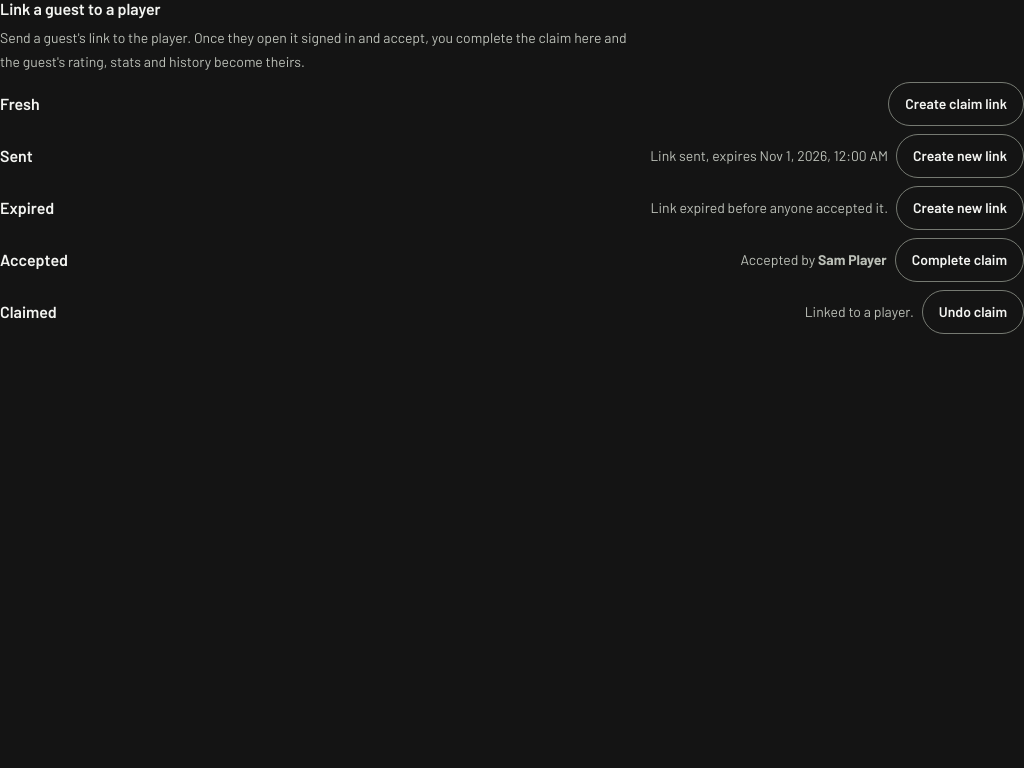
Scenario: GuestClaims › reports the action that ran last, not an older one
This screenshot has width=1024, height=768.
Click the button "Complete claim" at coordinates (959, 260), box [895,238,1023,282]
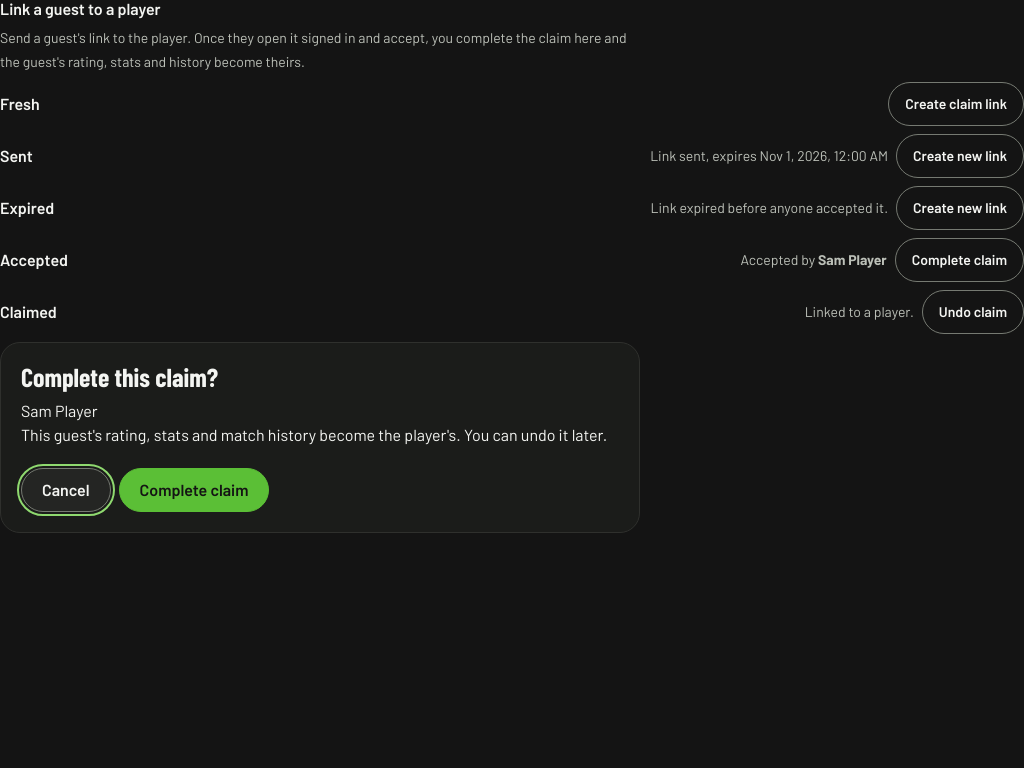
Click the button "Complete claim" below "Complete this claim?" at coordinates (194, 490), box [119,468,270,512]
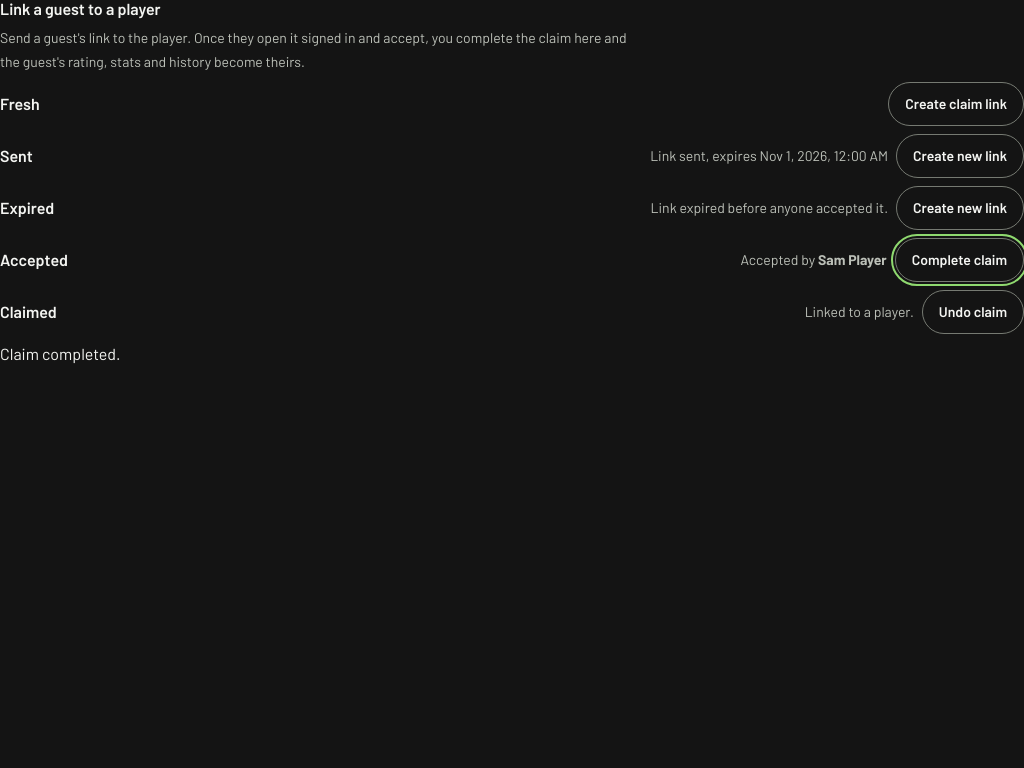
Expected: the text "Claim completed." is shown, [0,344,120,363]
Click the button "Undo claim" at coordinates (973, 312), box [922,290,1023,334]
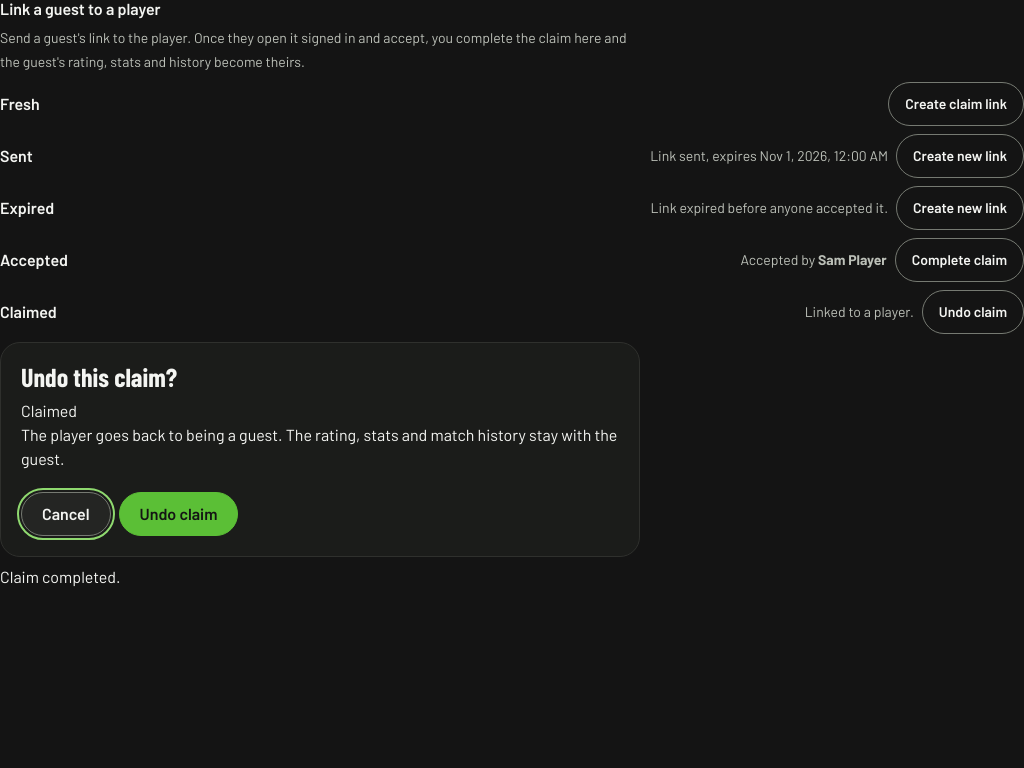
Click the button "Undo claim" below "Undo this claim?" at coordinates (179, 514), box [119,492,238,536]
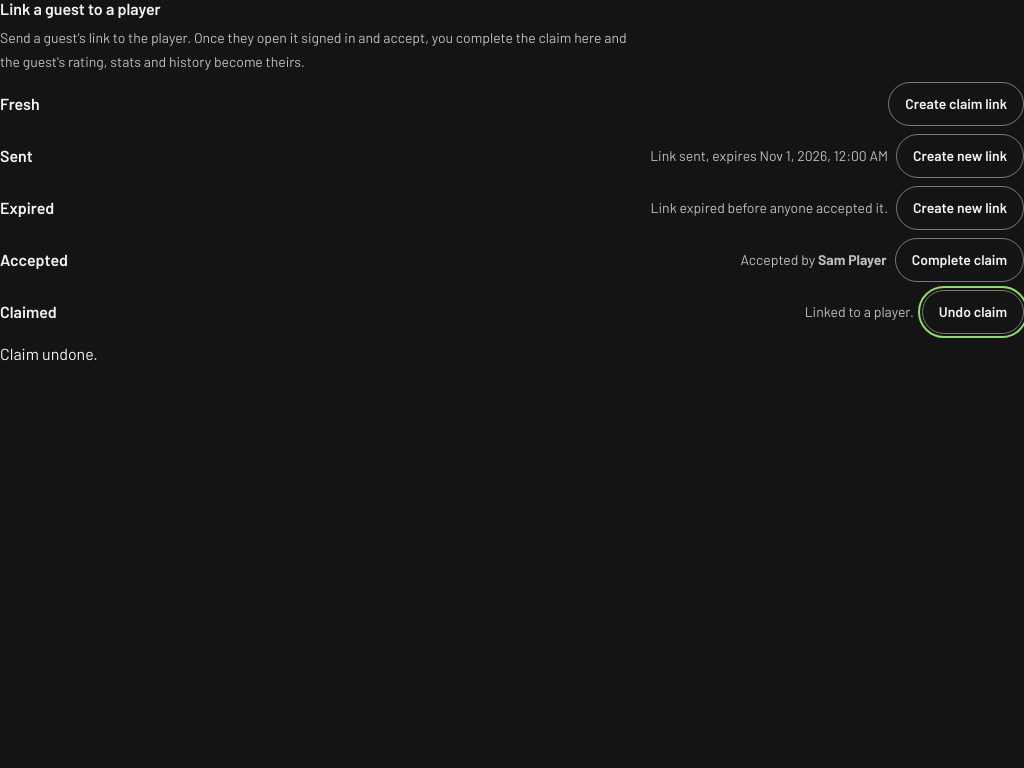
Expected: the text "Claim undone." is shown, [0,344,98,363]
Expected: the text "Claim completed." is gone
